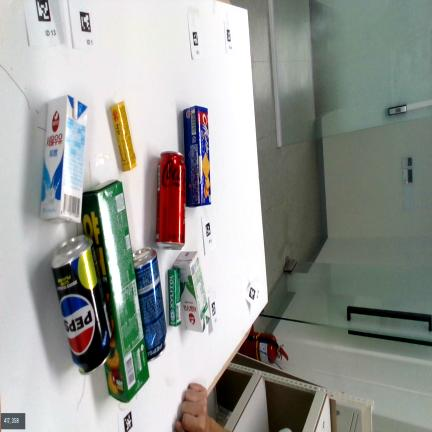can_coke_zero: (156, 152, 186, 249)
can_pepsi: (133, 248, 166, 361)
can_pepsi_zero: (51, 235, 111, 373)
cracker_ace: (184, 106, 212, 207)
cracker_vege: (82, 181, 149, 401)
gum_green: (168, 268, 181, 326)
gum_yellow: (111, 102, 135, 170)
milk_blue: (40, 96, 87, 221)
milk_green: (174, 251, 210, 332)
